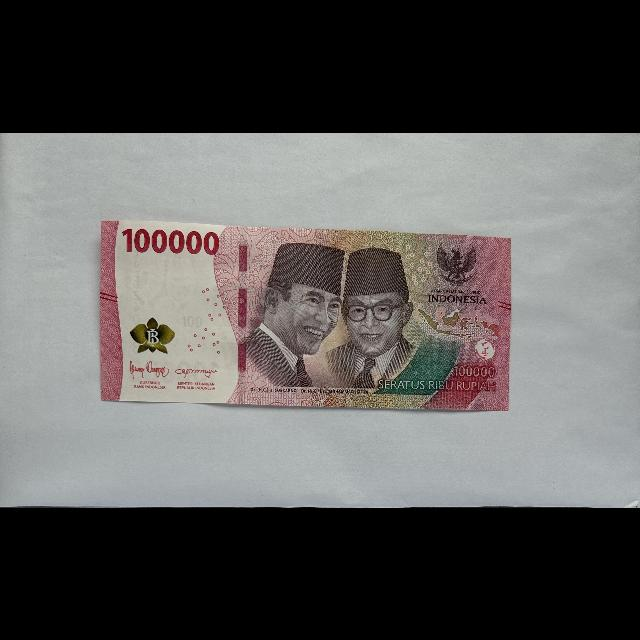Asli-100k: (100, 218, 513, 412)
Tinta-Asli-100k: (129, 316, 176, 354)
